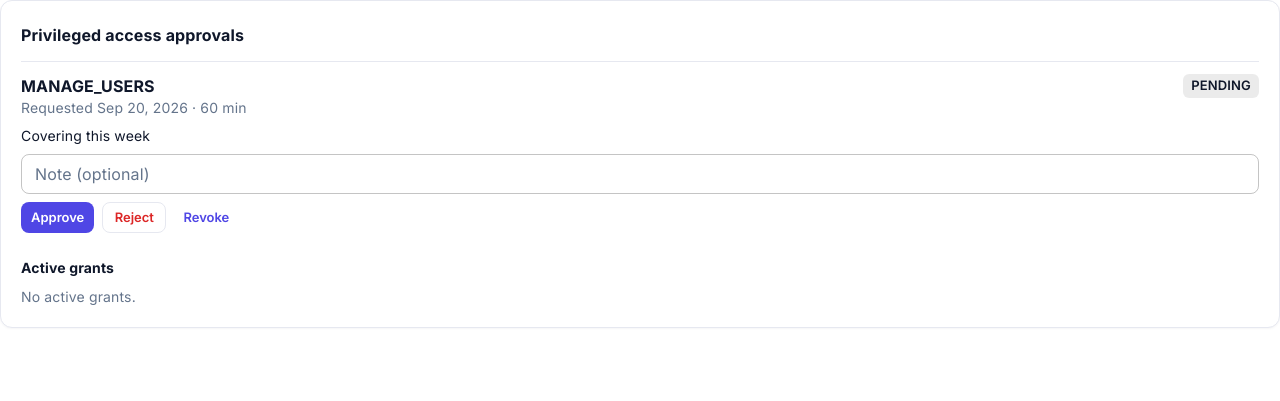
Scenario: OrganizationPrivilegedAccessCard › shows the backend refusal of a self-approval
This screenshot has width=1280, height=401.
Click the button "Approve": click(58, 217) [21,202,94,233]
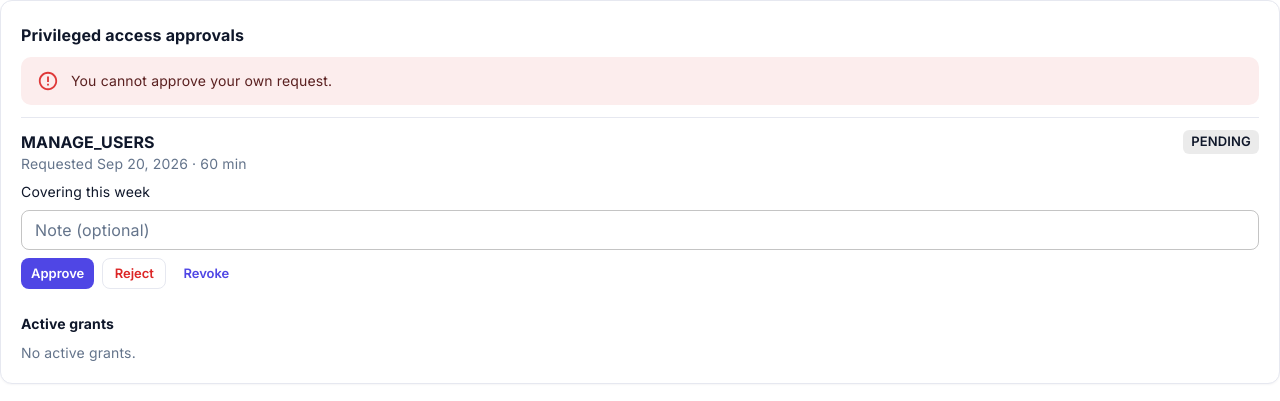
Now the text "You cannot approve your own request." is shown, box [71,72,332,89]
